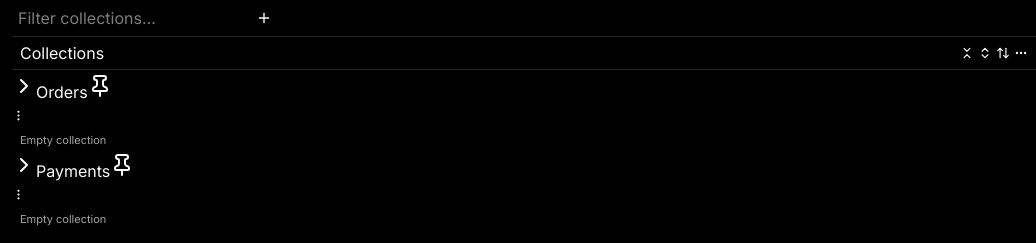
it: SidebarShell › filters the visible collections by name
Type "pay" into the field named "collection-filter" at coordinates (135, 18), box [18,6,252,30]
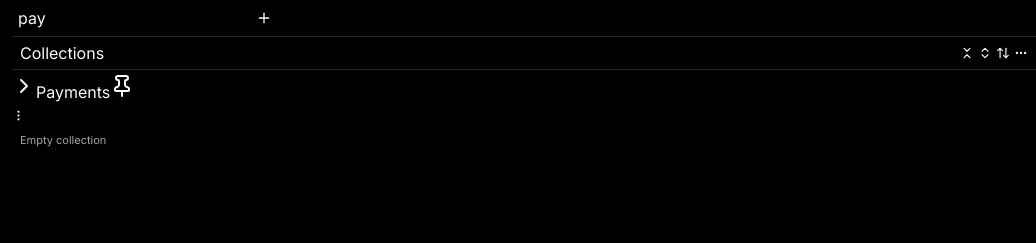
Expected: the text "Payments" is shown, [36,82,110,102]
Expected: the button "Orders" is gone
